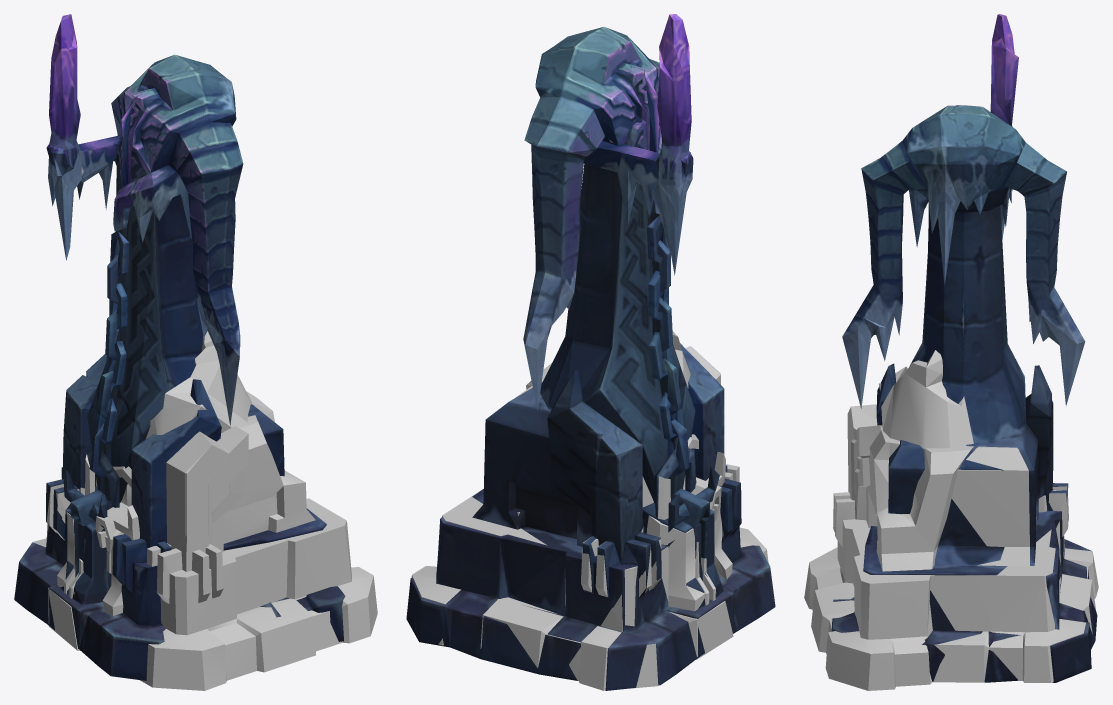
File: Tower_Red.FBX
3 views of the same model, side by side, from view 1: azimuth 30°, elevation 25°; view 2: azimuth 150°, elevation 25°; view 3: azimuth 270°, elevation 25° (orthographic). The views are drawn at different scales.
Parts seen in each view (by area): view 1: DrawCall_617, DrawCall_0467; view 2: DrawCall_617, DrawCall_0467; view 3: DrawCall_617, DrawCall_0467.
Boxes of the visible parts, box(x1,y1,x2,y2) form: DrawCall_617: box(14, 14, 345, 680); DrawCall_0467: box(33, 331, 377, 690); DrawCall_617: box(406, 14, 775, 690); DrawCall_0467: box(411, 331, 768, 690); DrawCall_617: box(831, 14, 1097, 682); DrawCall_0467: box(804, 350, 1098, 690).
Bounding box in the file's own units: 281 × 613 × 288.
